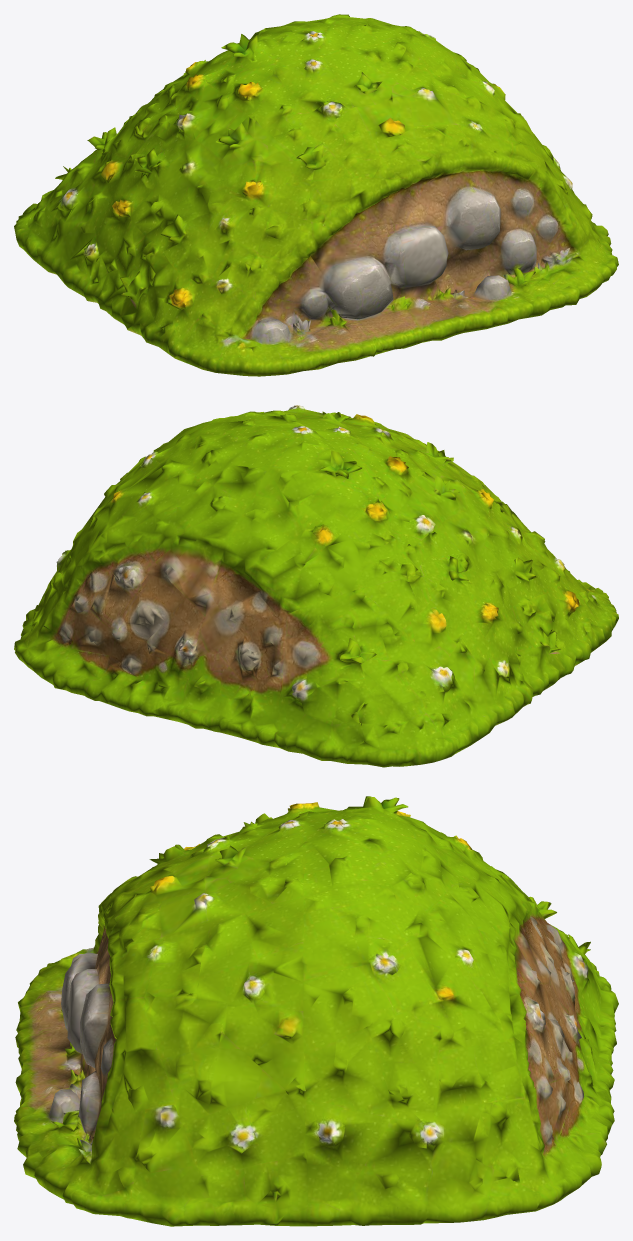
Rendered from Grassy hill embankment.glb.
3 renders of one model, top to bottom at view 1: azimuth 30°, elevation 25°; view 2: azimuth 150°, elevation 25°; view 3: azimuth 270°, elevation 25°, orthographic. The views are drawn at different scales.
Bounding box in the file's own units: 1.9 × 0.8493 × 1.73.
1 material, 1 textured.
